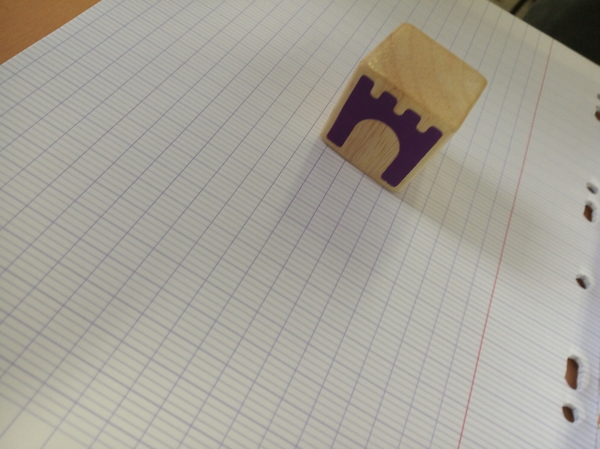violet: (338, 38, 456, 184)
